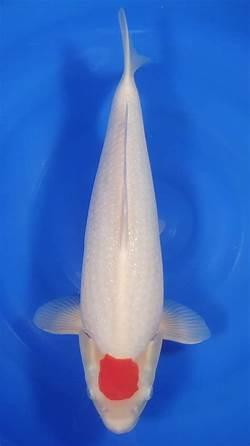sun: (32, 6, 210, 435)
